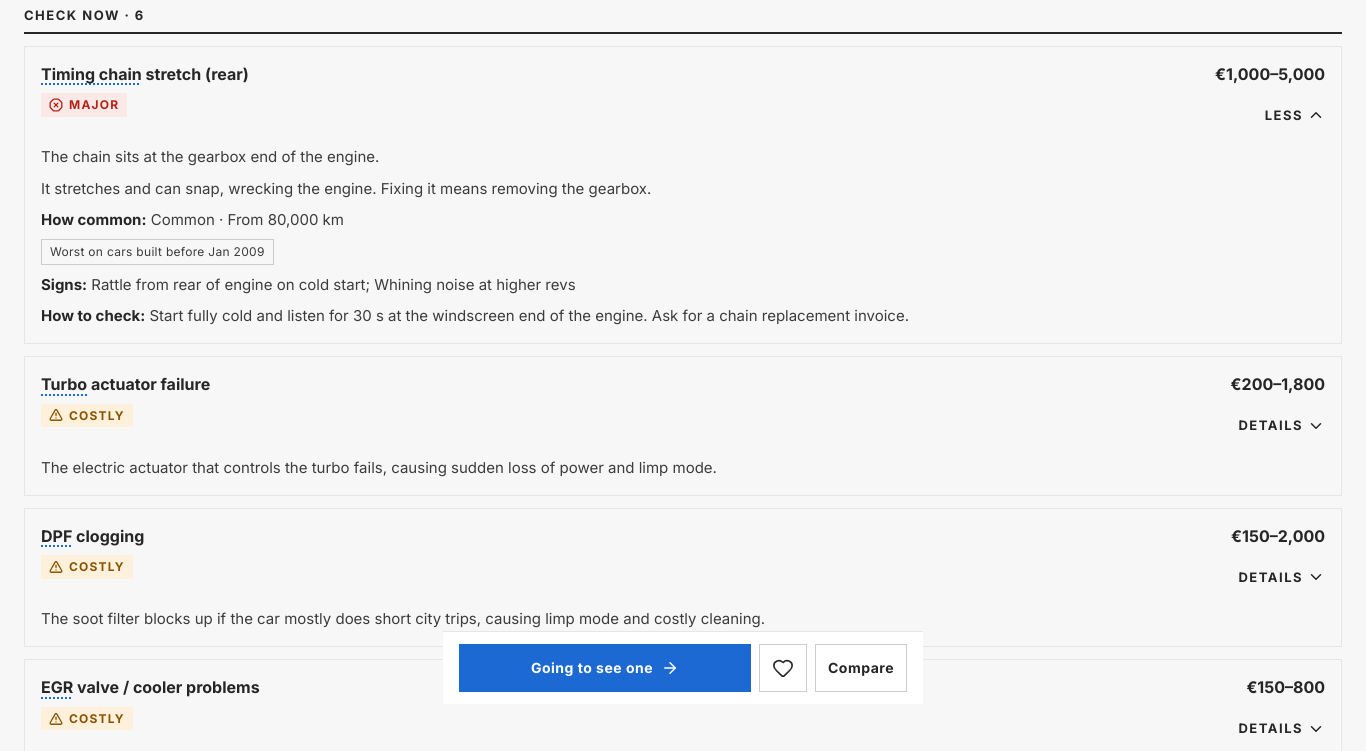
Test case: problem rows: first one open, the rest closed; a term tap shows its meaning without toggling the row
This screenshot has width=1366, height=751.
(page scrolled)
Click the button "Turbo" at (64, 384), box top-left (41, 373), bottom-right (87, 396)
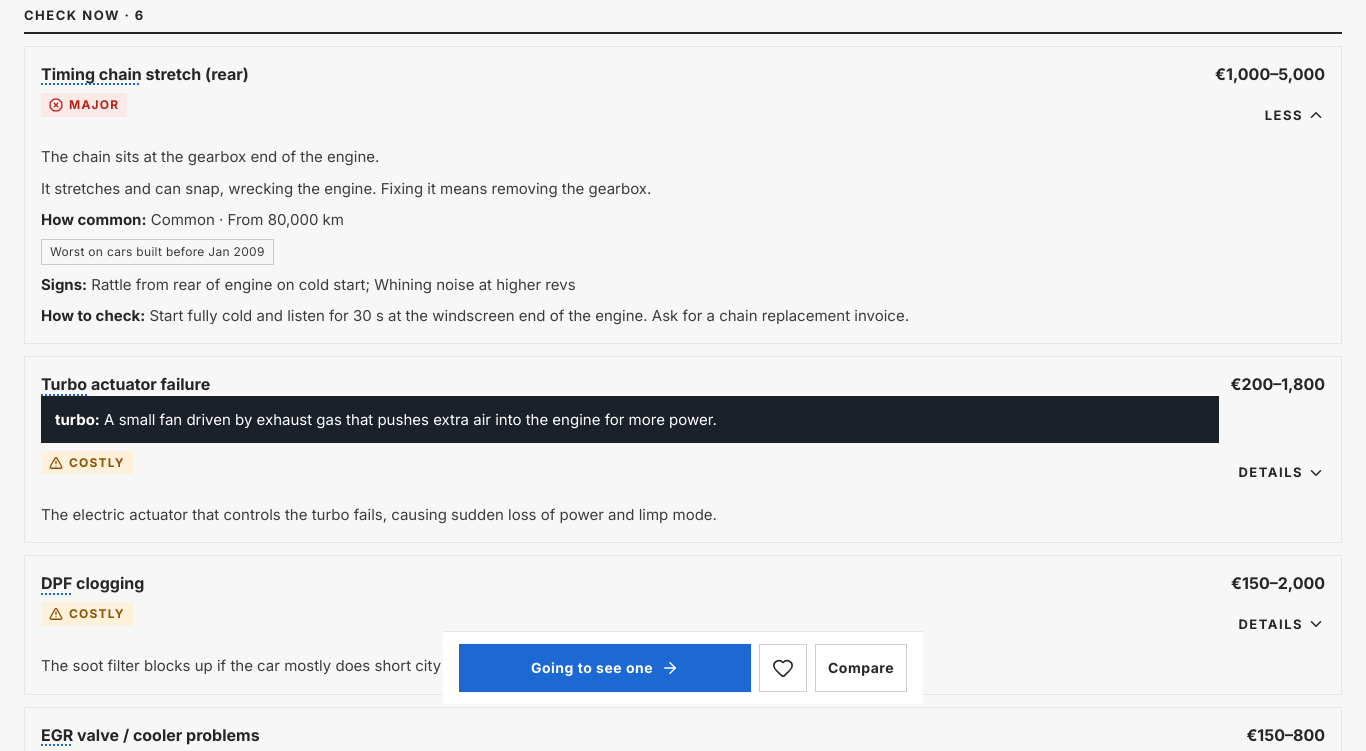
Now the element that starts with "turbo" is shown, box top-left (41, 396), bottom-right (1219, 443)
Click the button with test id "problem-toggle" below "€200–1,800" at (1282, 473), box top-left (1238, 451), bottom-right (1325, 495)
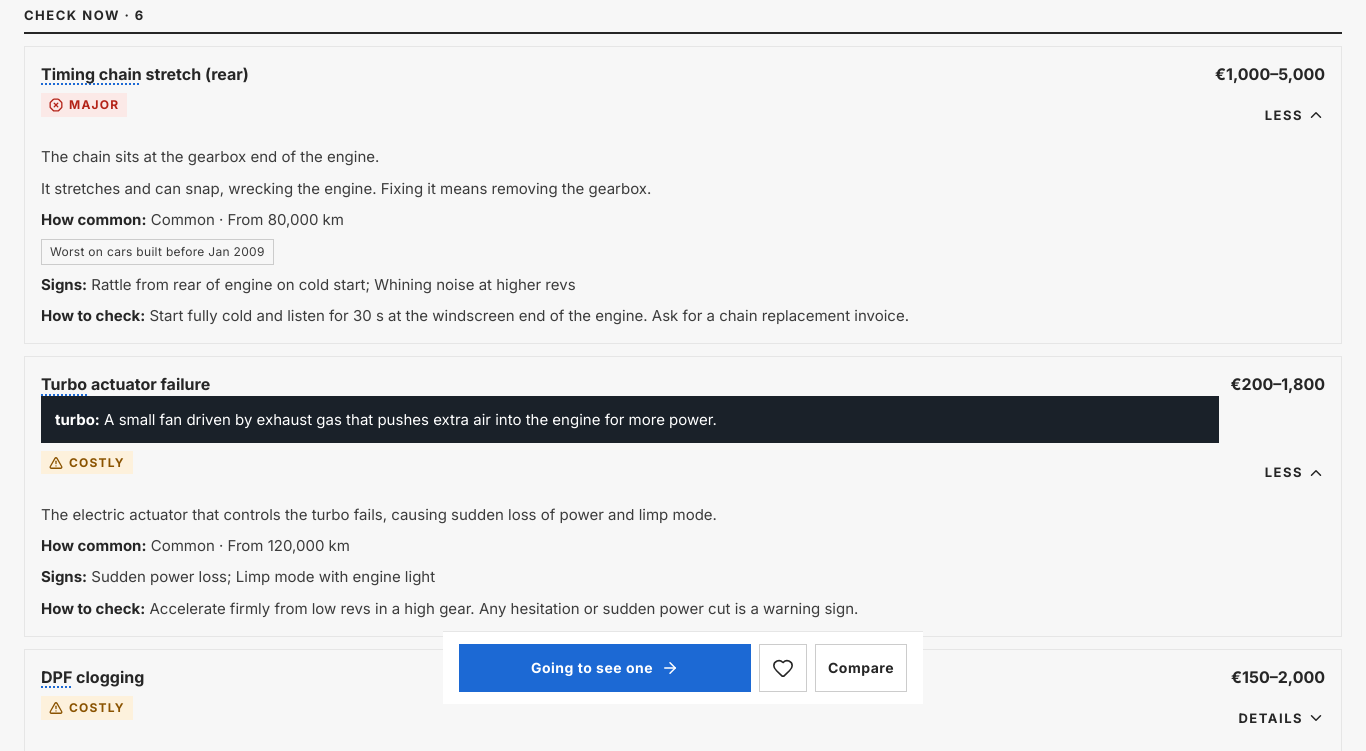
Expected: the heading "Check now · 6" is shown, top-left (24, 7), bottom-right (145, 24)
Now the text "How to check:" below "From 120,000 km" is shown, box top-left (41, 599), bottom-right (145, 618)
